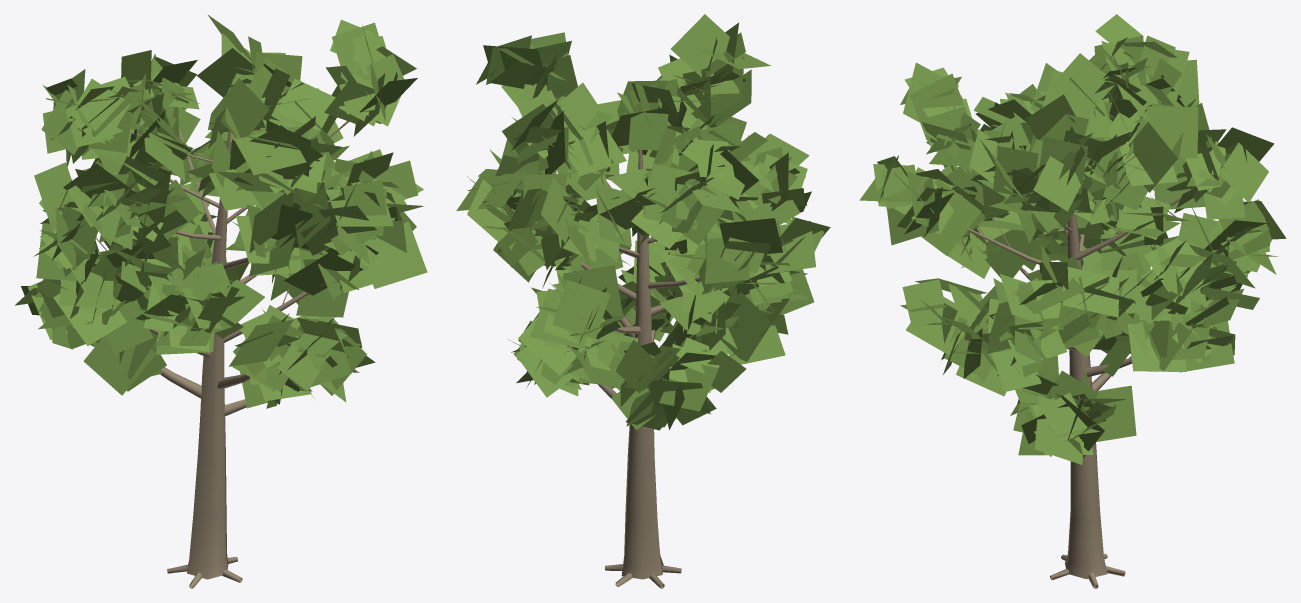
The model's file is oak-2-lod1.glb.
3 views of the same model, side by side, from view 1: azimuth 30°, elevation 25°; view 2: azimuth 150°, elevation 25°; view 3: azimuth 270°, elevation 25° (orthographic). The views are drawn at different scales.
Visible parts, largest first — view 1: oak-2-lod1-foliage, oak-2-lod1-bark; view 2: oak-2-lod1-foliage, oak-2-lod1-bark; view 3: oak-2-lod1-foliage, oak-2-lod1-bark.
Boxes of the visible parts, left/top/right/bottom form: oak-2-lod1-foliage: left=15, top=14, right=427, bottom=408; oak-2-lod1-bark: left=94, top=115, right=352, bottom=588; oak-2-lod1-foliage: left=456, top=14, right=830, bottom=430; oak-2-lod1-bark: left=511, top=85, right=765, bottom=588; oak-2-lod1-foliage: left=859, top=14, right=1286, bottom=464; oak-2-lod1-bark: left=939, top=47, right=1219, bottom=588.
Size of the model in its own units: 19.23 by 25.88 by 19.79.
